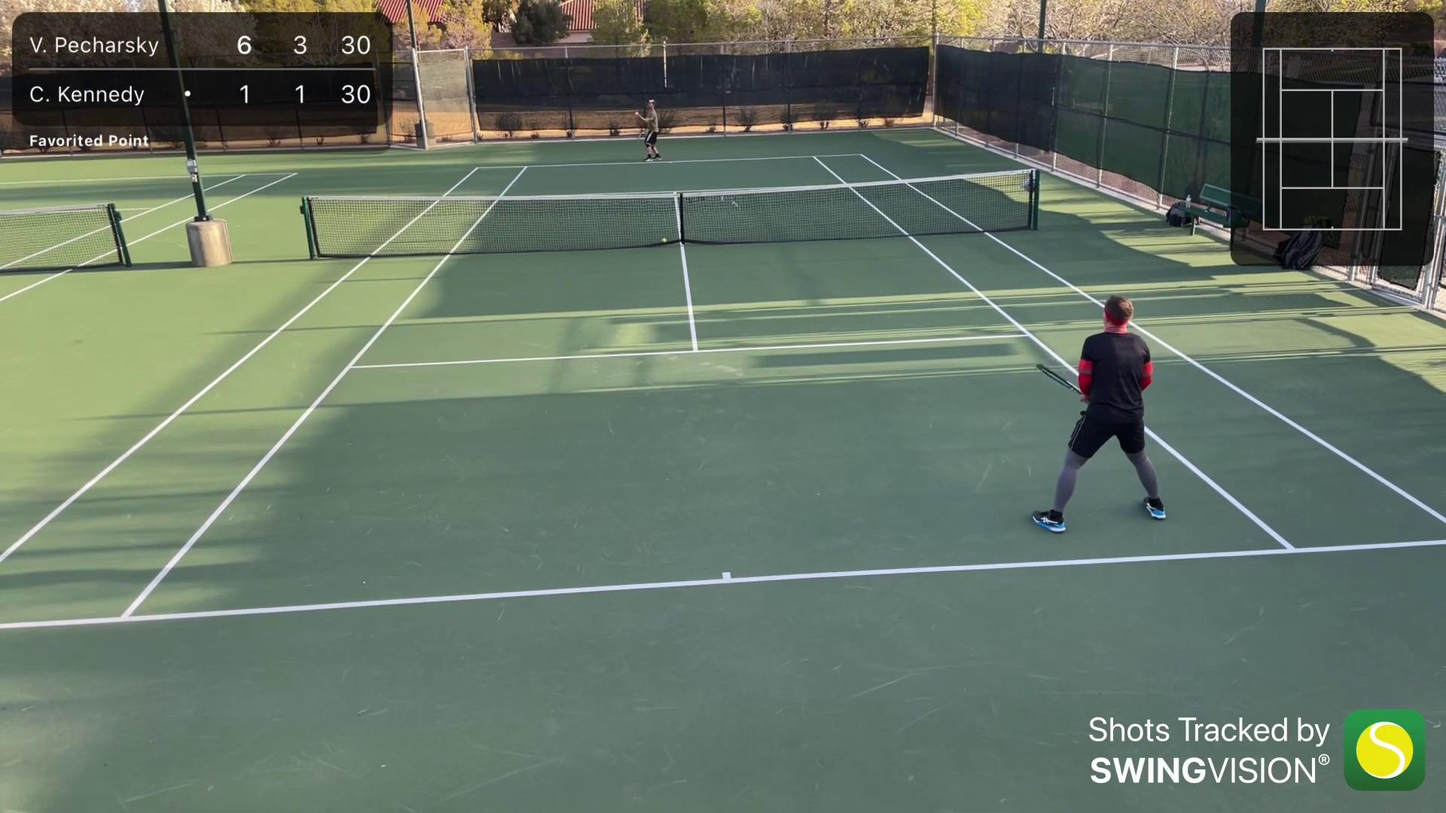ball: (661, 235, 667, 244), (633, 110, 639, 115)
